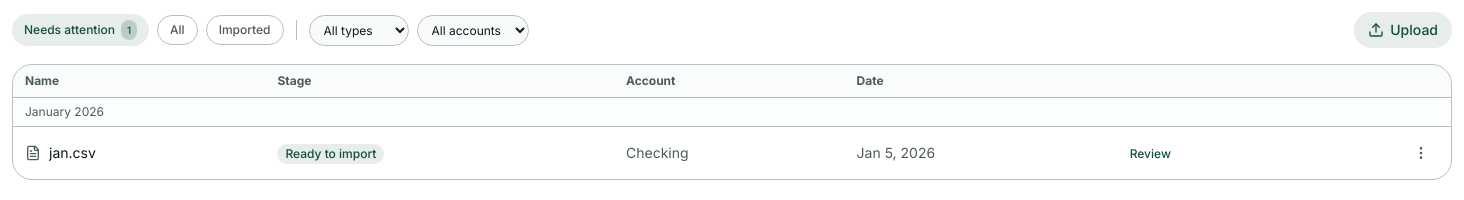
Test: VaultWorkspace › reviewing a ready-to-import statement opens the wizard in place, replacing the list
This screenshot has width=1464, height=200.
Expected: the text "jan.csv" is shown, [49,143,96,163]
Click the button "Review" at {"x": 1150, "y": 154}, box [1130,146,1171,162]
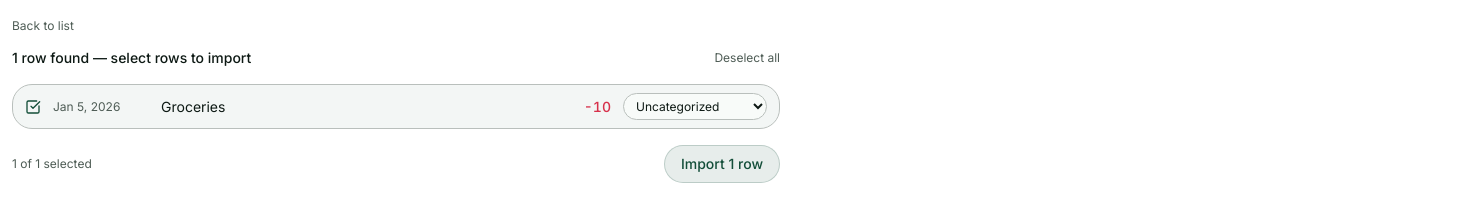
Expected: the text "Groceries" is shown, [161,98,225,114]
Expected: the button "jan.csv" is gone
Click the button "Back to list" at {"x": 43, "y": 26}, box [12,18,74,34]
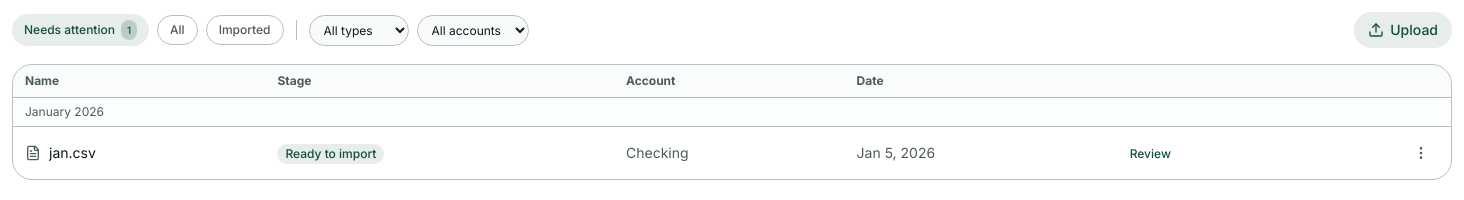
Expected: the text "jan.csv" is shown, [49,143,96,163]
